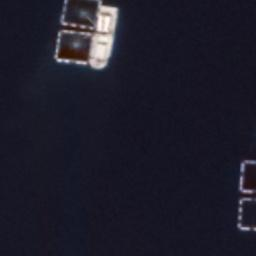square_solid: (52, 28, 96, 69), (58, 1, 103, 32), (236, 194, 256, 234), (237, 158, 256, 198)
